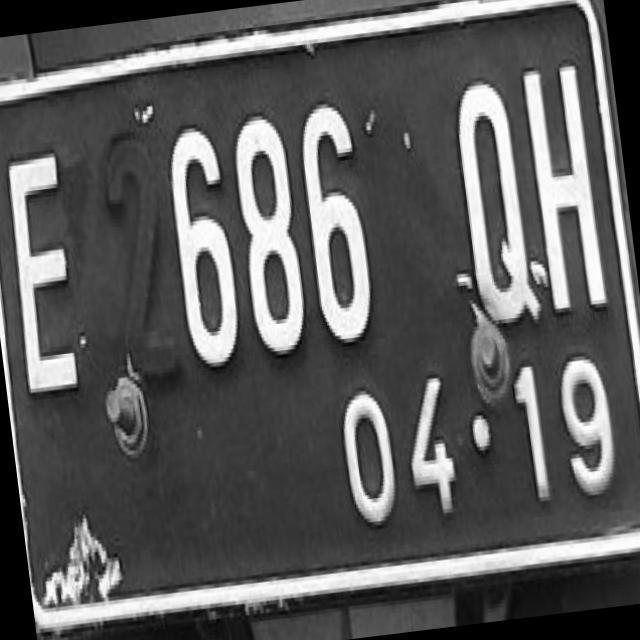2: (95, 130, 182, 386)
6: (288, 97, 386, 346), (160, 112, 246, 372)
8: (224, 106, 314, 358)
E: (0, 147, 105, 391)
H: (514, 56, 618, 320)
Q: (446, 76, 546, 330)
